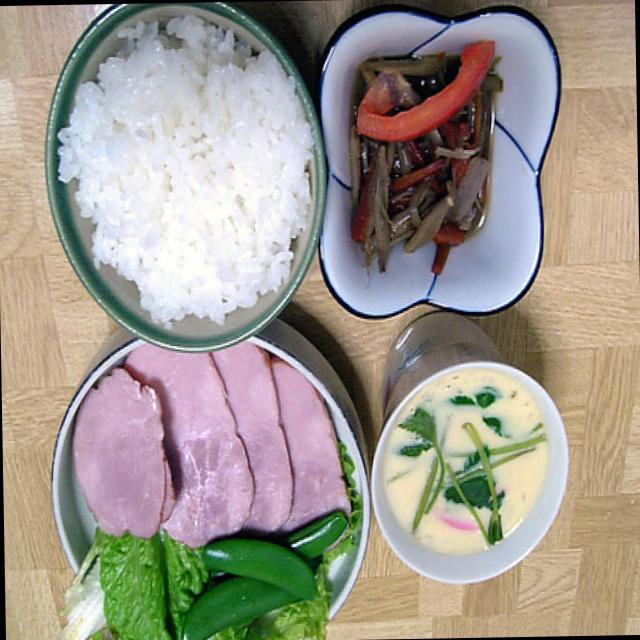Rice: (64, 14, 308, 333)
